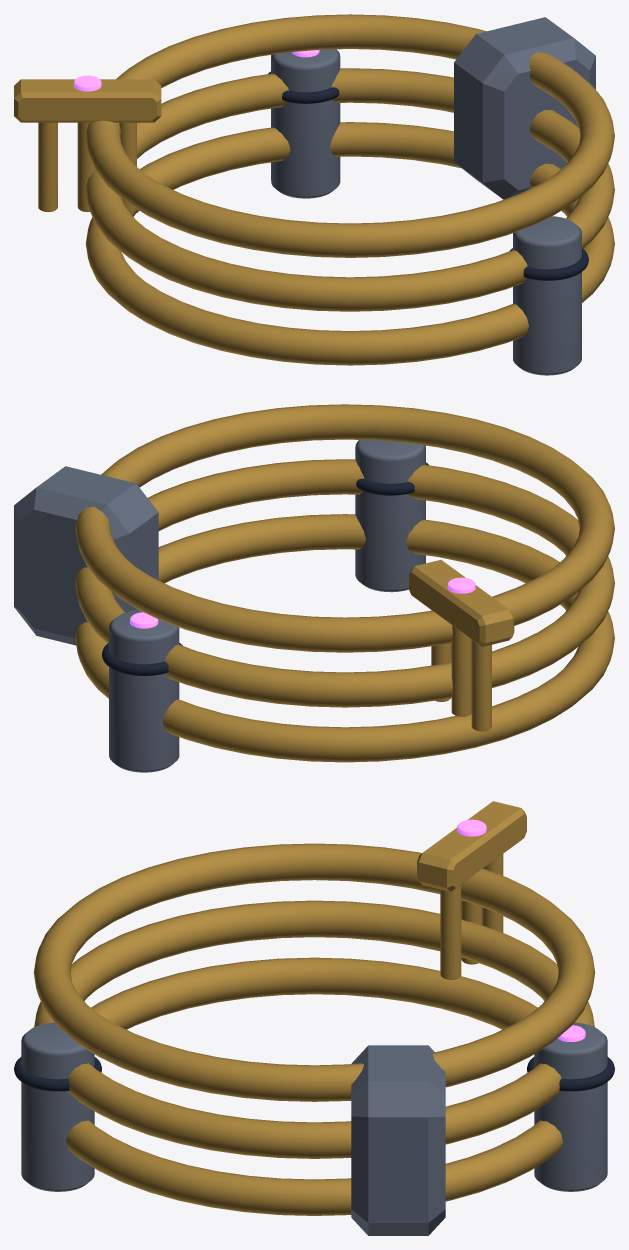
Rendered from tower_singularity_rate_s4.glb.
3 views of the same model, one above another, from view 1: azimuth 30°, elevation 25°; view 2: azimuth 150°, elevation 25°; view 3: azimuth 270°, elevation 25° (orthographic). The views are drawn at different scales.
Parts seen in each view (by area): view 1: singularity_stem_coil2, singularity_stem_coil1, singularity_stem_coil0, singularity_stem_junction, singularity_stem_cap4.363323129985824, singularity_stem_cap1.9198621771937625, singularity_manifold_header, singularity_manifold_pipe0.08, singularity_manifold_pipe0, singularity_stem_cap_rib4.363323129985824, singularity_stem_cap_rib1.9198621771937625, singularity_manifold_pipe-0.08; view 2: singularity_stem_coil2, singularity_stem_coil1, singularity_stem_coil0, singularity_stem_junction, singularity_stem_cap1.9198621771937625, singularity_stem_cap4.363323129985824, singularity_manifold_header, singularity_manifold_pipe0.08, singularity_manifold_pipe0, singularity_stem_cap_rib1.9198621771937625, singularity_stem_cap_rib4.363323129985824; view 3: singularity_stem_coil2, singularity_stem_coil1, singularity_stem_coil0, singularity_stem_junction, singularity_stem_cap4.363323129985824, singularity_stem_cap1.9198621771937625, singularity_manifold_header, singularity_manifold_pipe-0.08, singularity_stem_cap_rib1.9198621771937625, singularity_stem_cap_rib4.363323129985824, singularity_manifold_pipe0.08.
Part boxes in pixels (x1,y1,x2,y2): singularity_stem_coil2: (85, 14, 614, 257); singularity_stem_coil1: (85, 68, 614, 311); singularity_stem_coil0: (85, 122, 614, 365); singularity_stem_junction: (454, 17, 595, 199); singularity_stem_cap4.363323129985824: (513, 216, 581, 375); singularity_stem_cap1.9198621771937625: (271, 49, 340, 198); singularity_manifold_header: (14, 79, 161, 122); singularity_manifold_pipe0.08: (38, 122, 57, 212); singularity_manifold_pipe0: (77, 122, 95, 212); singularity_stem_cap_rib4.363323129985824: (509, 248, 588, 280); singularity_stem_cap_rib1.9198621771937625: (268, 71, 339, 103); singularity_manifold_pipe-0.08: (119, 122, 136, 211); singularity_stem_coil2: (75, 404, 614, 652); singularity_stem_coil1: (75, 459, 614, 707); singularity_stem_coil0: (75, 514, 614, 762); singularity_stem_junction: (14, 466, 158, 645); singularity_stem_cap1.9198621771937625: (109, 610, 179, 772); singularity_stem_cap4.363323129985824: (355, 440, 425, 592); singularity_manifold_header: (409, 560, 514, 646); singularity_manifold_pipe0.08: (471, 640, 491, 731); singularity_manifold_pipe0: (451, 625, 471, 716); singularity_stem_cap_rib1.9198621771937625: (102, 643, 182, 675); singularity_stem_cap_rib4.363323129985824: (356, 462, 428, 495); singularity_stem_coil2: (33, 843, 595, 1101); singularity_stem_coil1: (34, 900, 594, 1158); singularity_stem_coil0: (66, 957, 562, 1215); singularity_stem_junction: (351, 1045, 445, 1235); singularity_stem_cap4.363323129985824: (21, 1022, 94, 1191); singularity_stem_cap1.9198621771937625: (534, 1022, 607, 1191); singularity_manifold_header: (417, 801, 526, 891); singularity_manifold_pipe-0.08: (440, 884, 461, 979); singularity_stem_cap_rib1.9198621771937625: (527, 1057, 614, 1091); singularity_stem_cap_rib4.363323129985824: (14, 1057, 101, 1091); singularity_manifold_pipe0.08: (482, 854, 503, 932).
Size of the model in its own units: 1.22 by 0.455 by 1.15.
